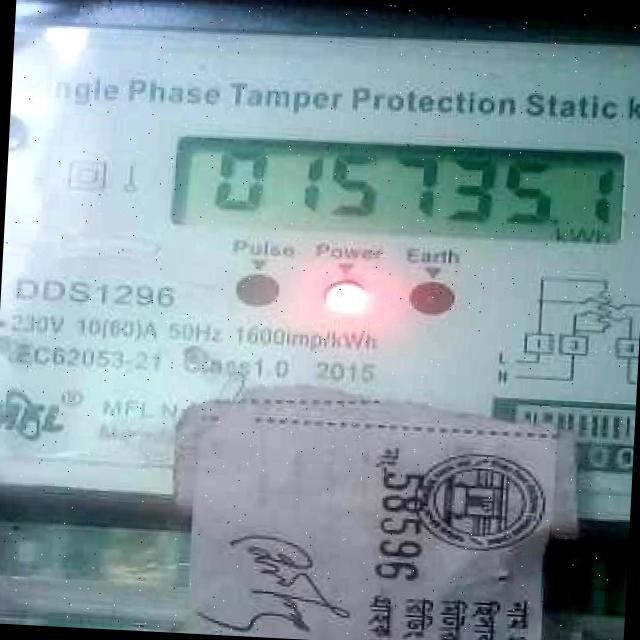LCD: (159, 124, 640, 261)
